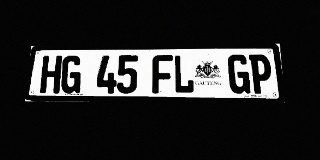4: (96, 55, 118, 93)
5: (117, 55, 138, 93)
F: (152, 55, 173, 94)
G: (227, 54, 251, 94), (60, 55, 82, 93)
H: (39, 56, 62, 93)
L: (173, 55, 194, 94)
P: (249, 54, 273, 94)
